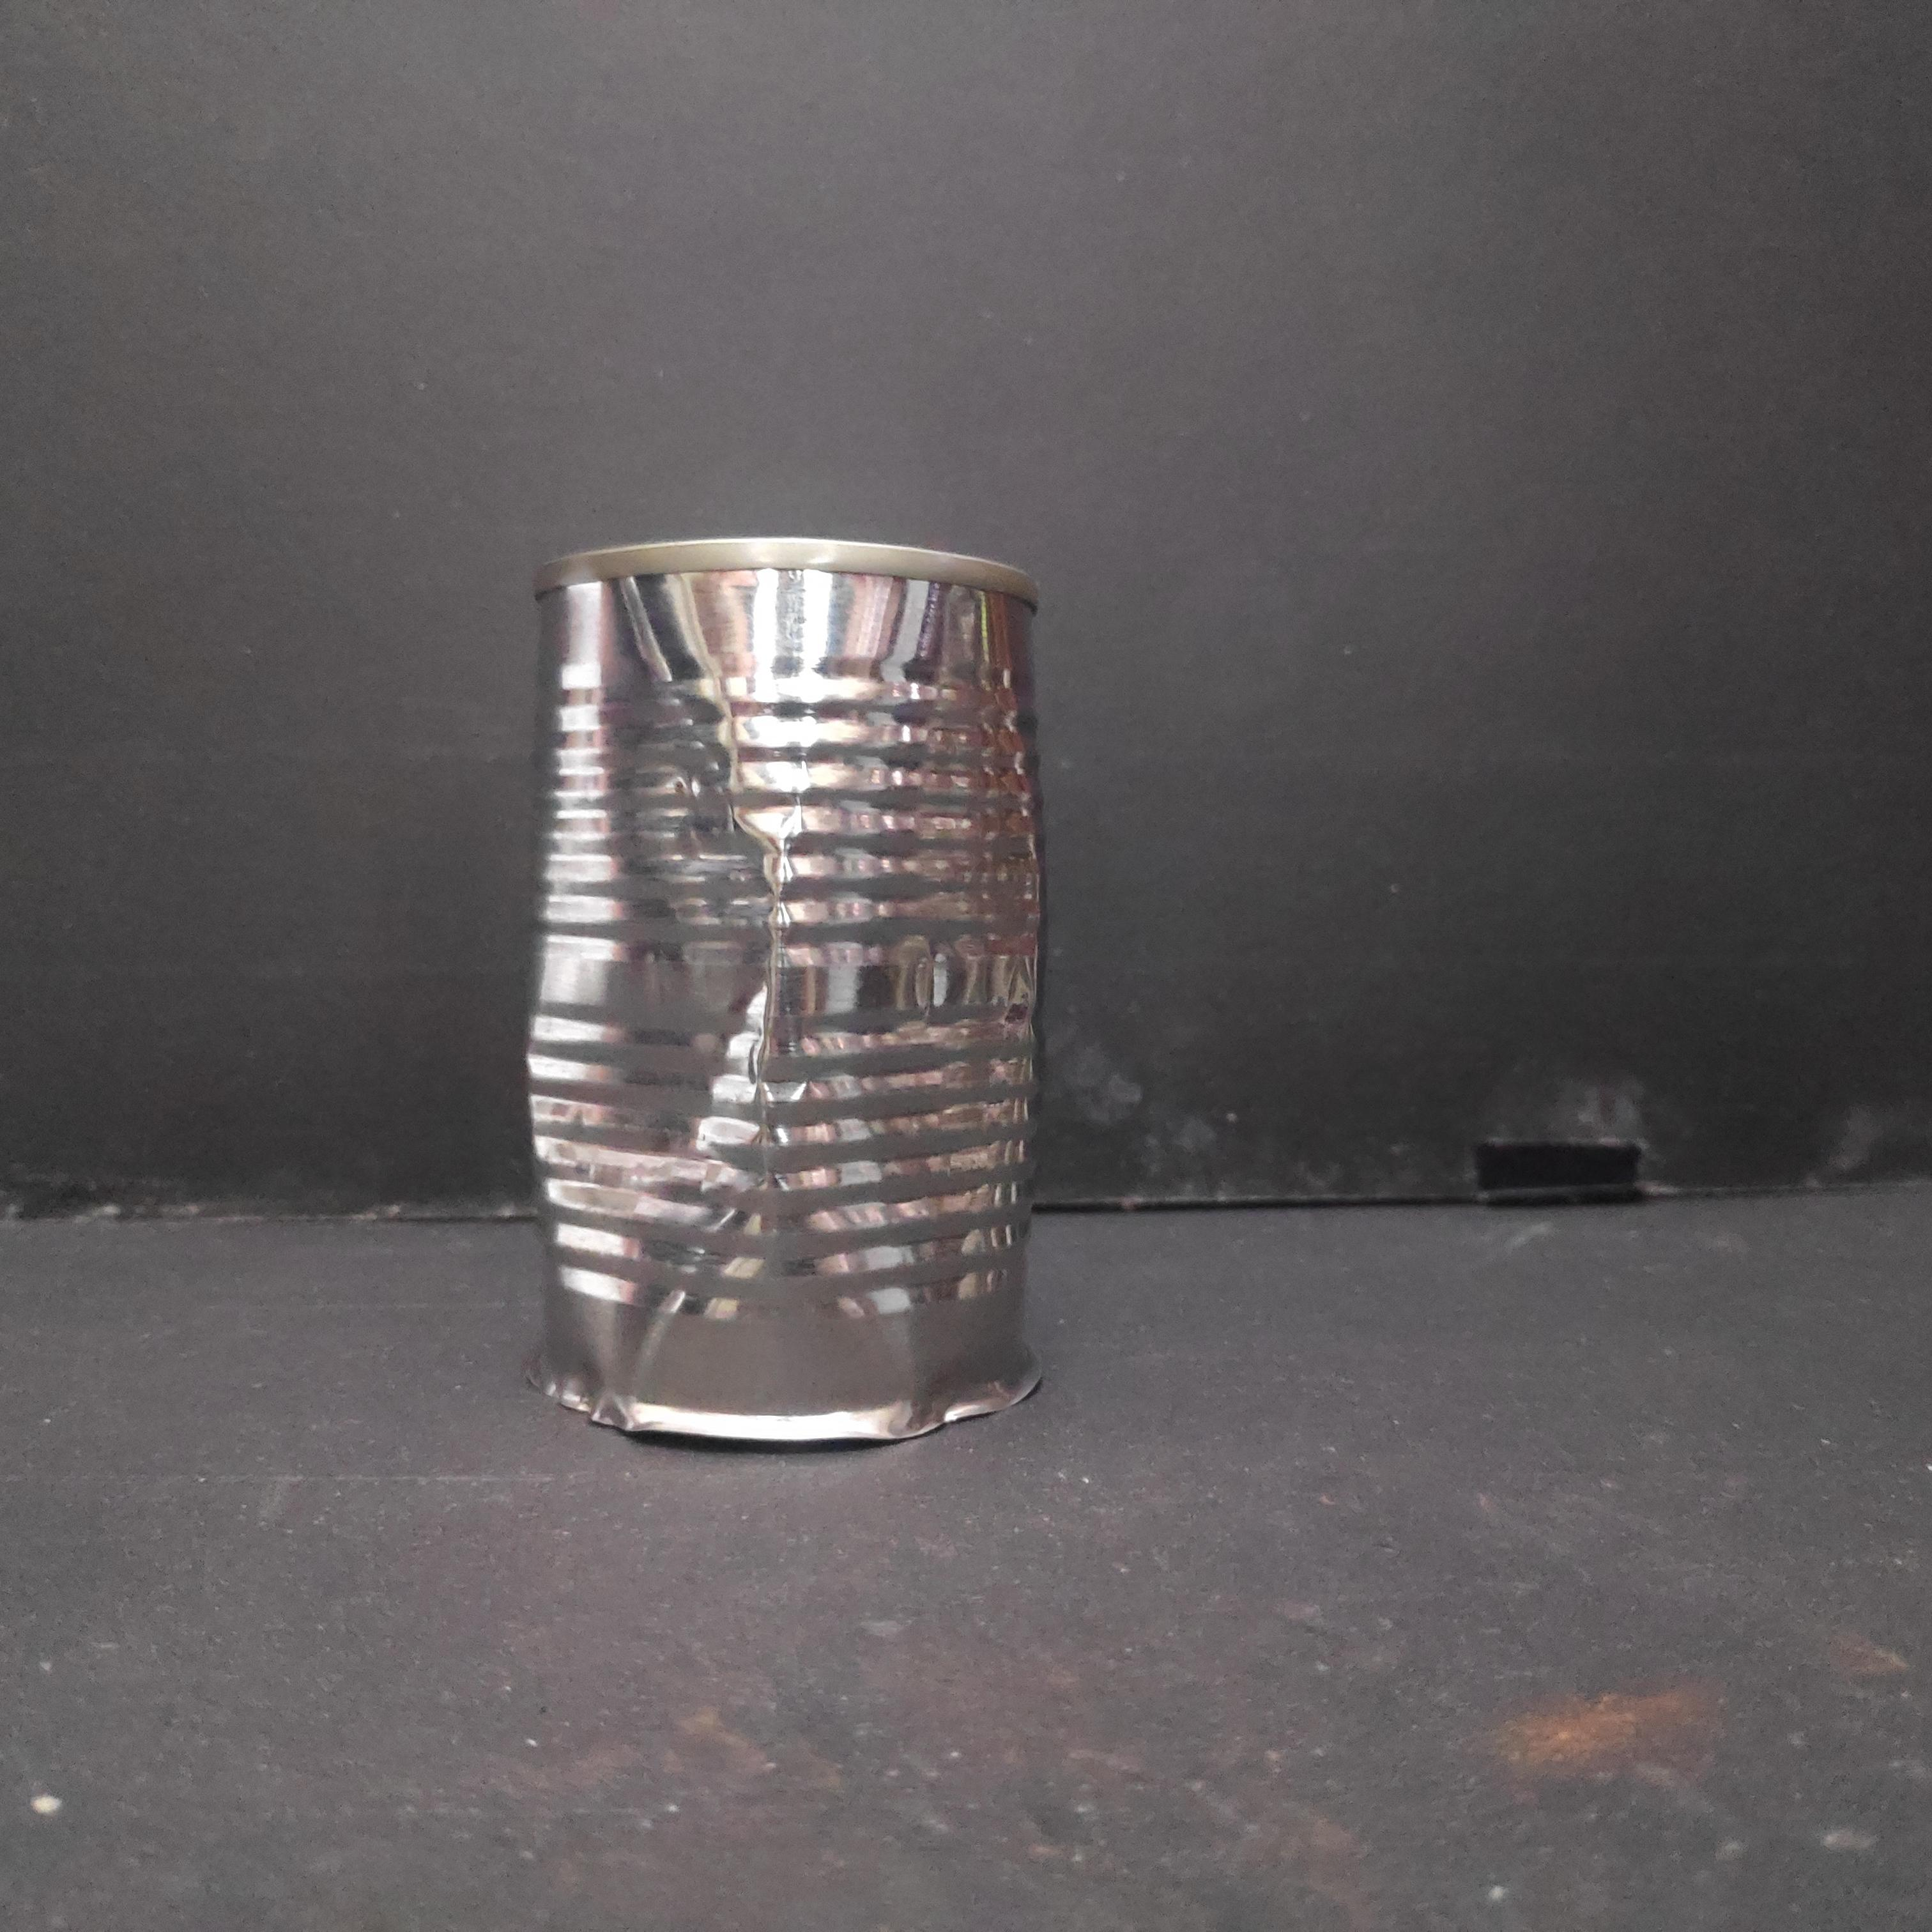Minor Defect: (499, 525, 1069, 1476)
